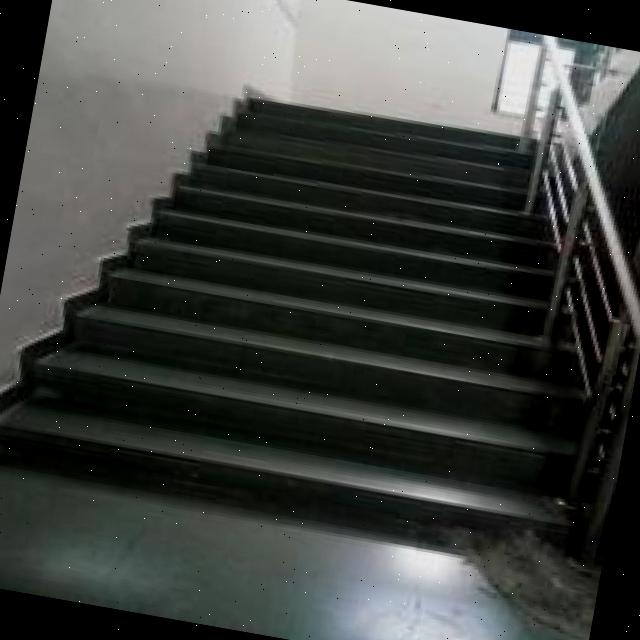stairs: (0, 44, 640, 563)
